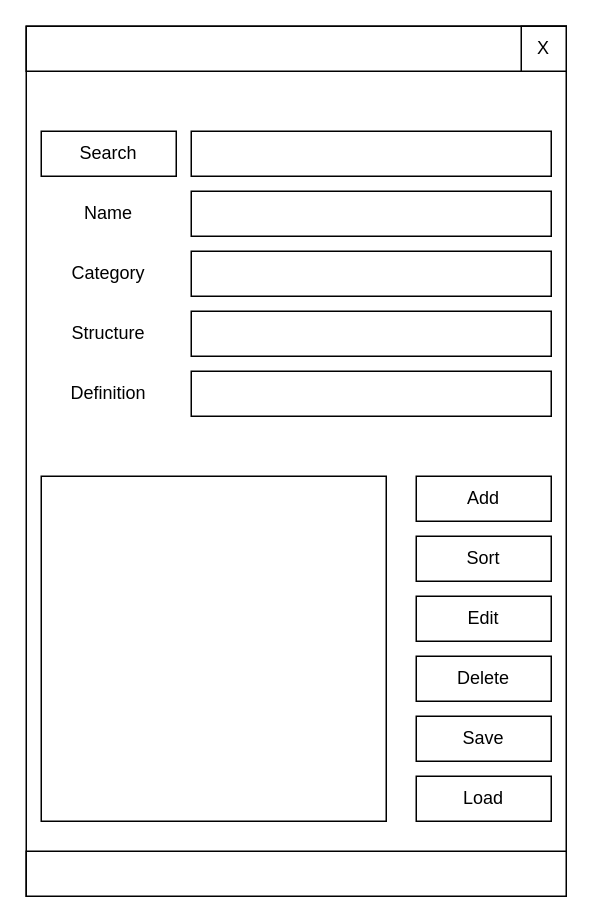
The diagram is 593 pixels wide and 923 high, and some of its shapes have lost their labels. Here are the shapes that lost their labels. From the top down, the box of each, then its label:
(25, 25, 566, 71): Window Name
(40, 475, 386, 821): List Box
(25, 850, 566, 896): Status Stip
